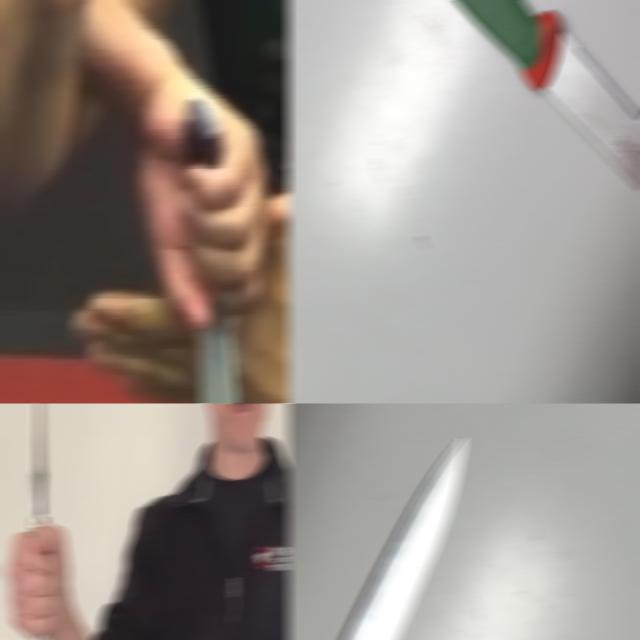Knife: (454, 0, 640, 187), (343, 439, 466, 640), (176, 95, 242, 403)
Knife_Handle: (130, 76, 268, 403), (5, 403, 71, 640)
